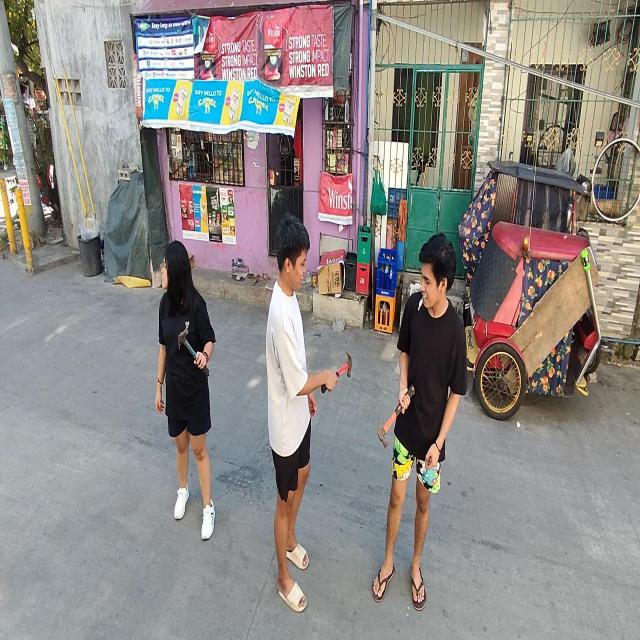hammer: (378, 384, 414, 448), (178, 328, 209, 376), (321, 352, 352, 394)
